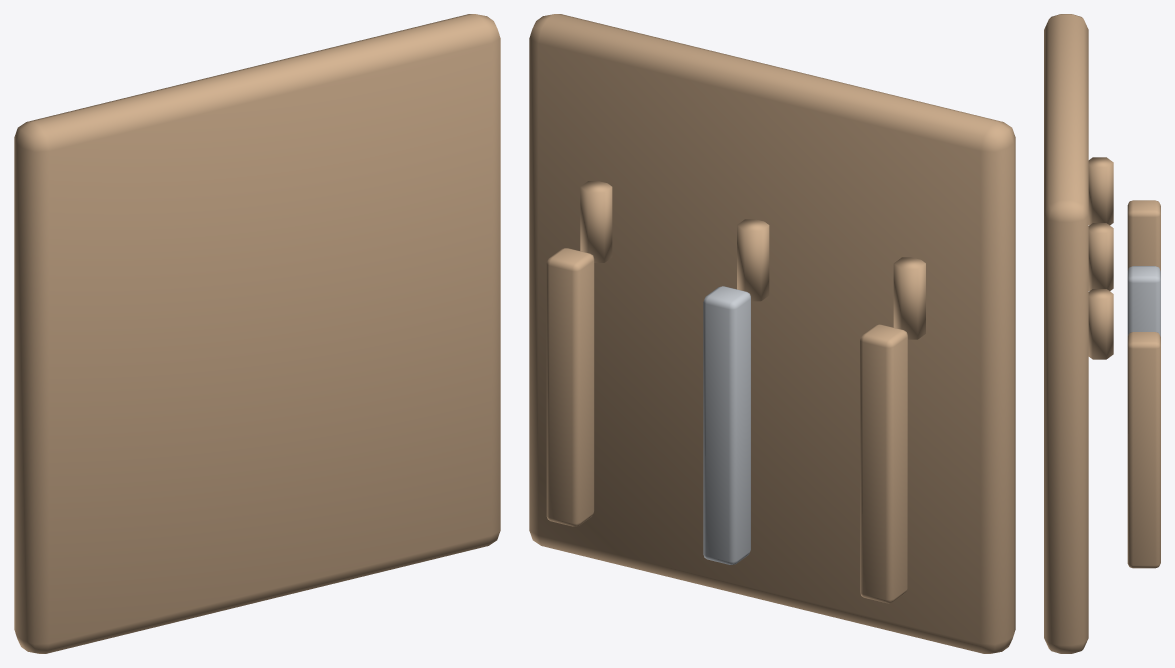
Rendered from cozy_tool_rack_A.glb.
3 views of the same model, side by side, from view 1: azimuth 30°, elevation 25°; view 2: azimuth 150°, elevation 25°; view 3: azimuth 270°, elevation 25° (orthographic). The views are drawn at different scales.
Parts seen in each view (by area): view 1: Board; view 2: Board, Tool2, Tool1, Tool0, Peg1, Peg0, Peg2; view 3: Board, Tool2, Tool0, Tool1, Peg2, Peg0, Peg1.
Part boxes in pixels (bbox=[...]): Board: bbox=[14, 14, 500, 653]; Board: bbox=[529, 14, 1015, 653]; Tool2: bbox=[546, 248, 594, 526]; Tool1: bbox=[703, 286, 750, 564]; Tool0: bbox=[860, 324, 907, 603]; Peg1: bbox=[737, 219, 769, 301]; Peg0: bbox=[893, 257, 925, 339]; Peg2: bbox=[580, 181, 612, 262]; Board: bbox=[1044, 14, 1088, 653]; Tool2: bbox=[1127, 332, 1160, 568]; Tool0: bbox=[1127, 200, 1160, 270]; Tool1: bbox=[1127, 266, 1160, 336]; Peg2: bbox=[1088, 289, 1113, 359]; Peg0: bbox=[1088, 157, 1113, 225]; Peg1: bbox=[1088, 223, 1113, 290].
Size of the model in its own units: 0.85 by 0.9 by 0.21.
